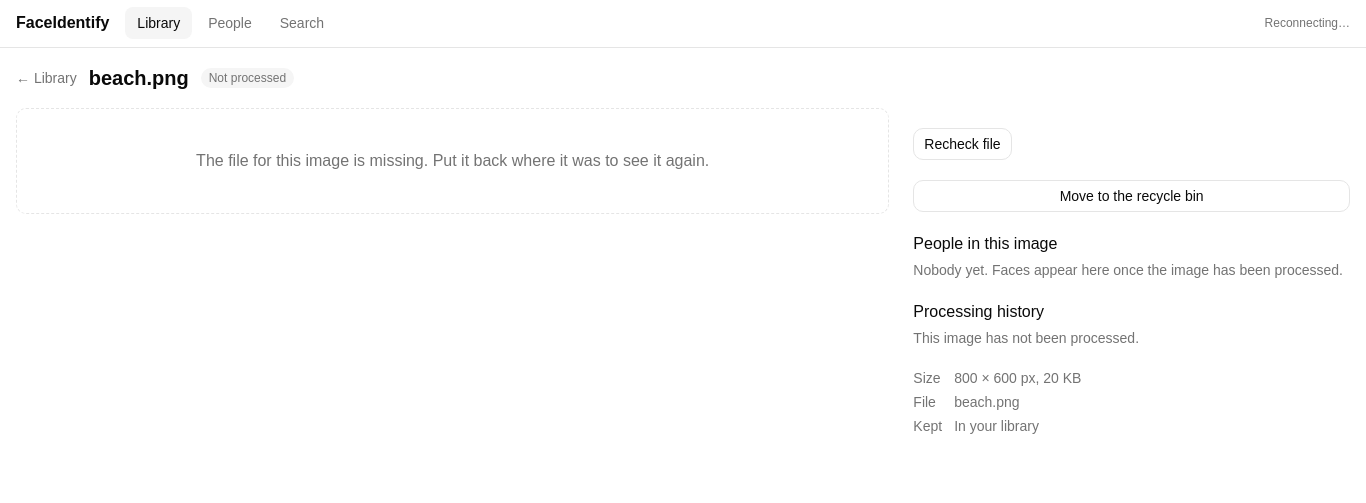
Scenario: a missing original › says why when the file is still not the original
Click the button "Recheck file" at [962, 144], box [913,128,1012,160]
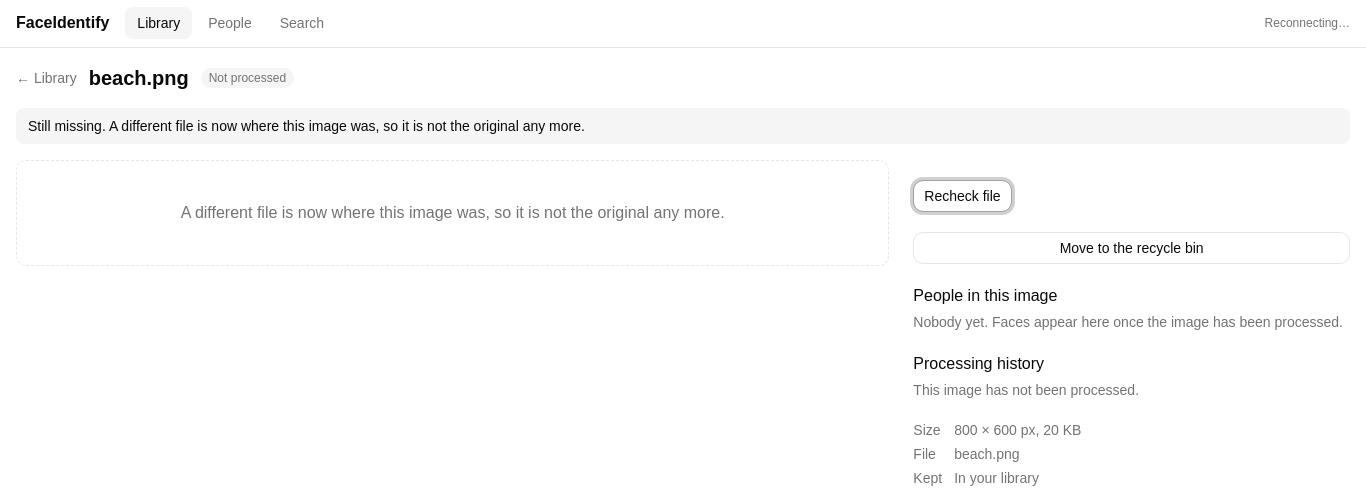
Result: the message named "Source notice" shows "Still missing. A different file is now where this image was" at [28,118,585,134]
